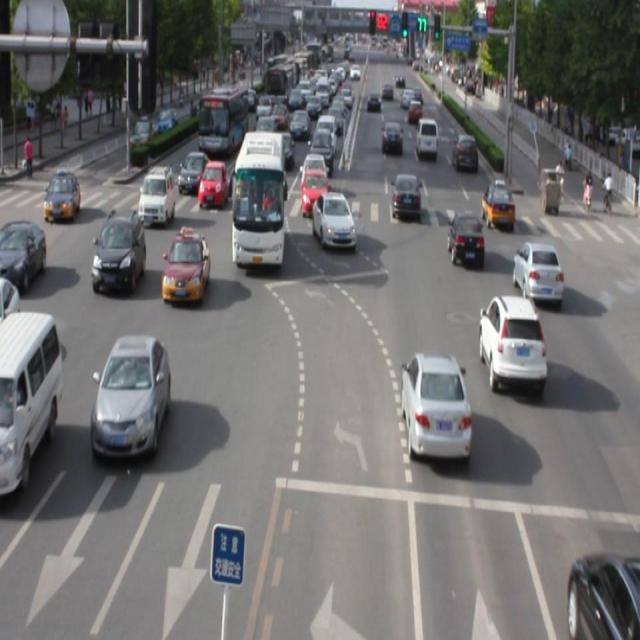car: (91, 333, 170, 456), (402, 352, 469, 462), (478, 294, 546, 391), (568, 551, 640, 640), (92, 208, 145, 295), (163, 228, 208, 304), (511, 240, 560, 303), (311, 196, 355, 253), (138, 165, 174, 228), (446, 209, 483, 267), (480, 181, 512, 227)
truck: (0, 310, 60, 490)
van: (233, 129, 285, 266)
